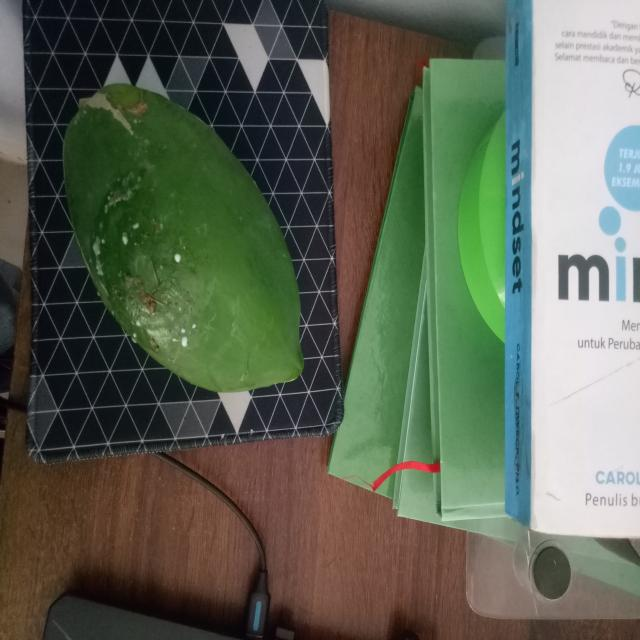Pepaya unrippen: (61, 84, 312, 409)
